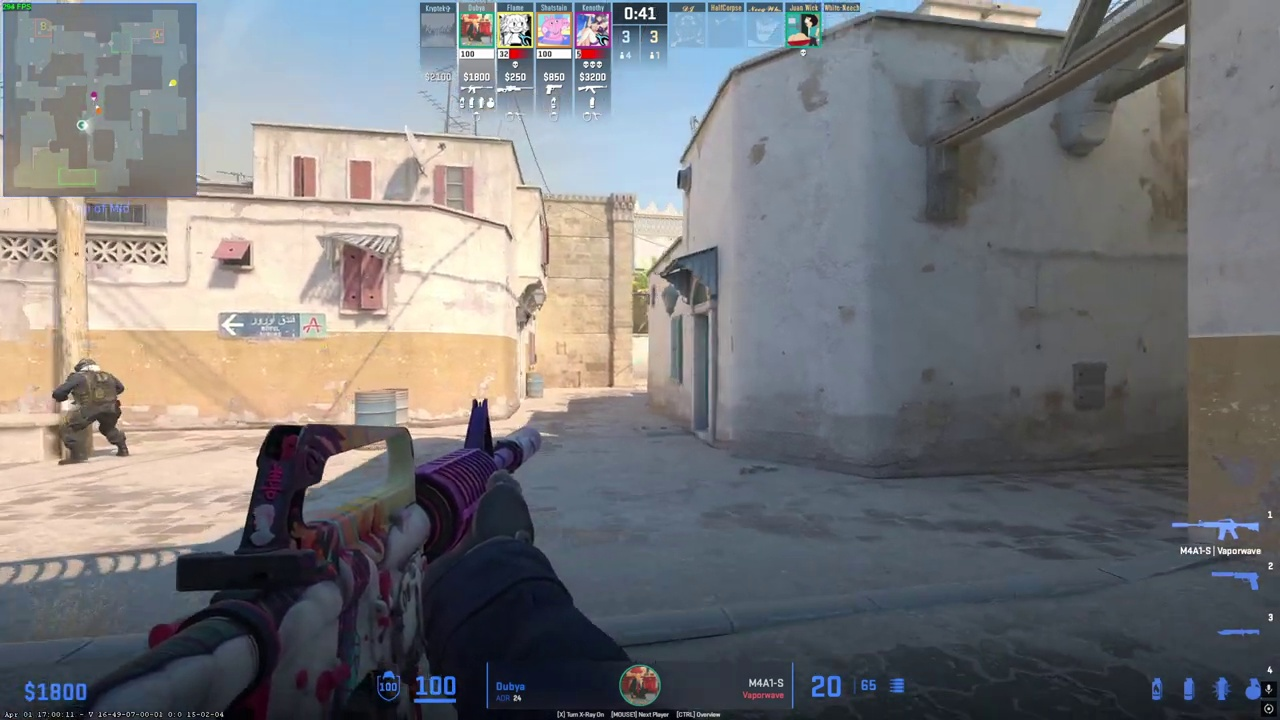CT: (52, 358, 129, 465)
